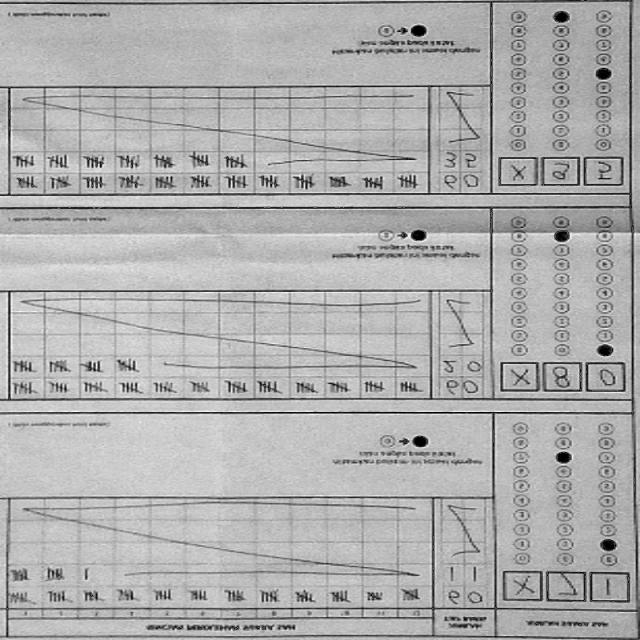Suara: (496, 360, 628, 400), (493, 154, 626, 192), (499, 574, 631, 607)
